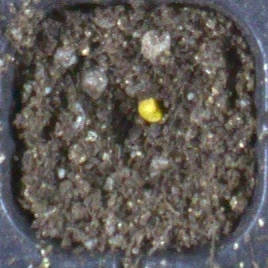chilli seed: (137, 97, 162, 122)
